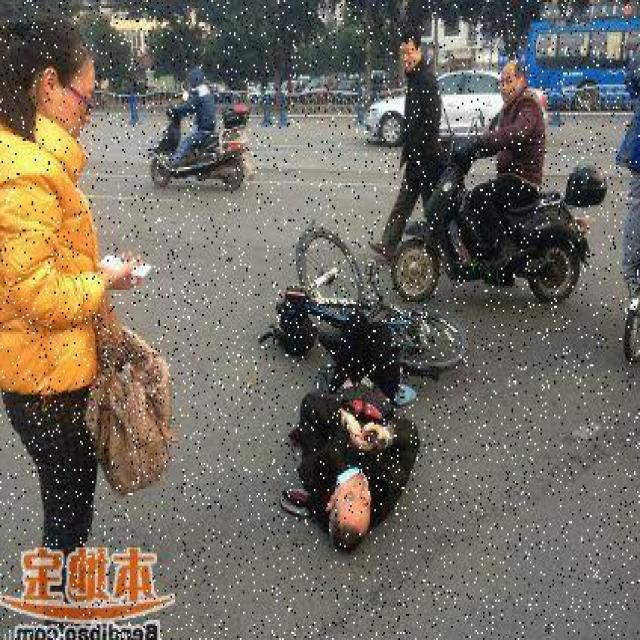fall: (281, 314, 421, 547)
